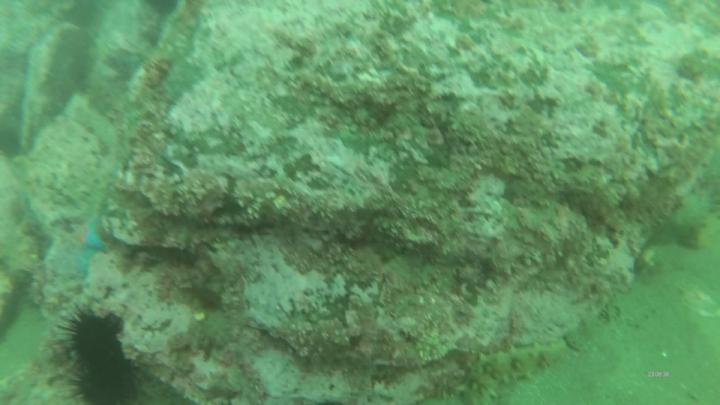echinus: (52, 303, 128, 367), (66, 358, 143, 403)
holothurian: (465, 338, 571, 400)
starfish: (74, 214, 110, 279)
